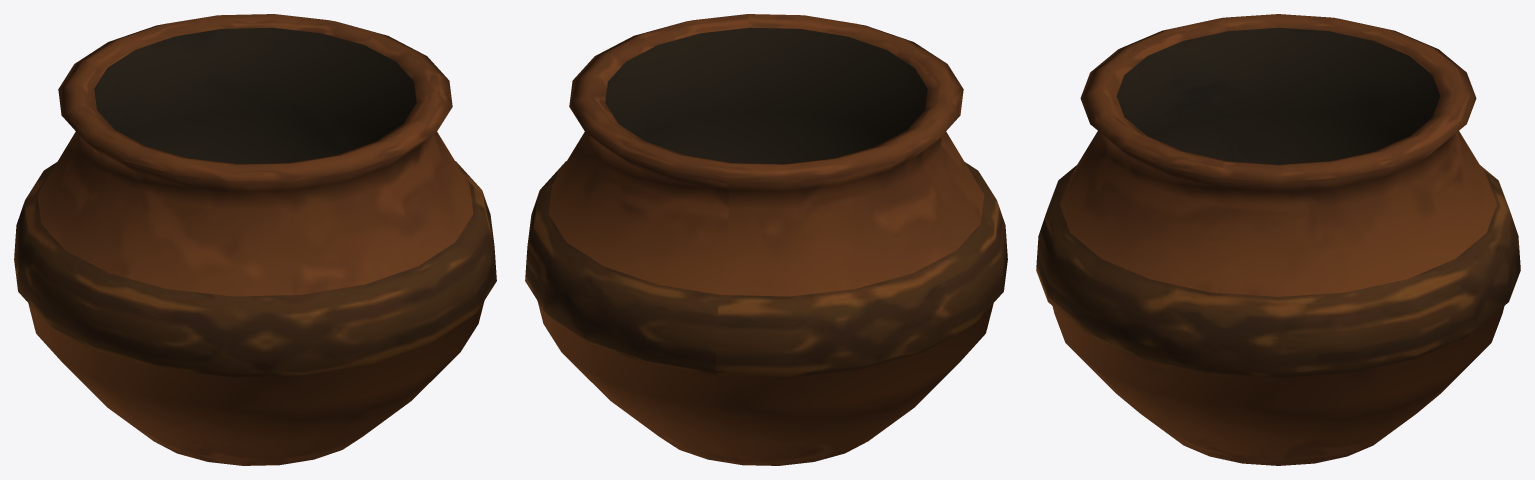
Rendered from fp_vase.glb.
The picture shows the model from 3 angles, left to right: view 1: azimuth 30°, elevation 25°; view 2: azimuth 150°, elevation 25°; view 3: azimuth 270°, elevation 25°; orthographic projection.
Visible parts, largest first — view 1: Vase_2; view 2: Vase_2; view 3: Vase_2.
Part boxes in pixels (box(x1,y1,x2,y2)): Vase_2: box(14, 14, 496, 465); Vase_2: box(525, 14, 1007, 465); Vase_2: box(1036, 14, 1520, 465).
Size of the model in its own units: 0.6947 by 0.5163 by 0.6947.
1 material, 1 textured.
